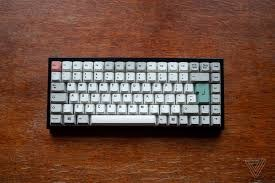keyboard: (43, 50, 237, 140)
